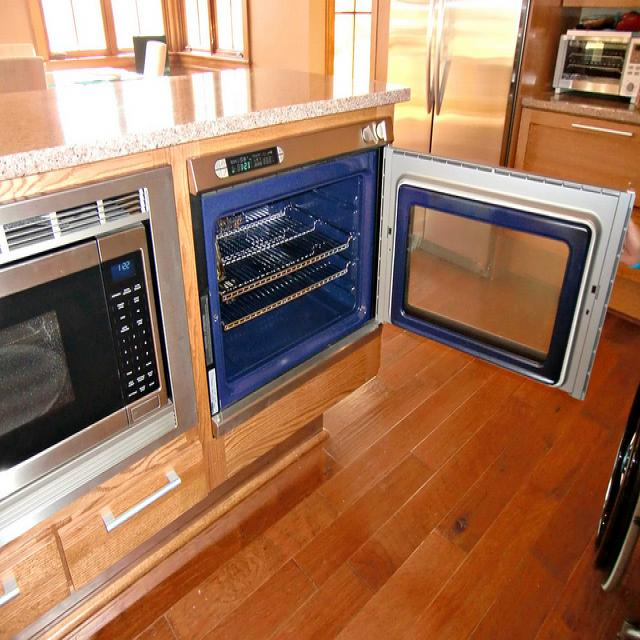chair: (0, 59, 47, 94), (143, 40, 167, 79)
dining table: (0, 66, 412, 184), (47, 60, 151, 90)
